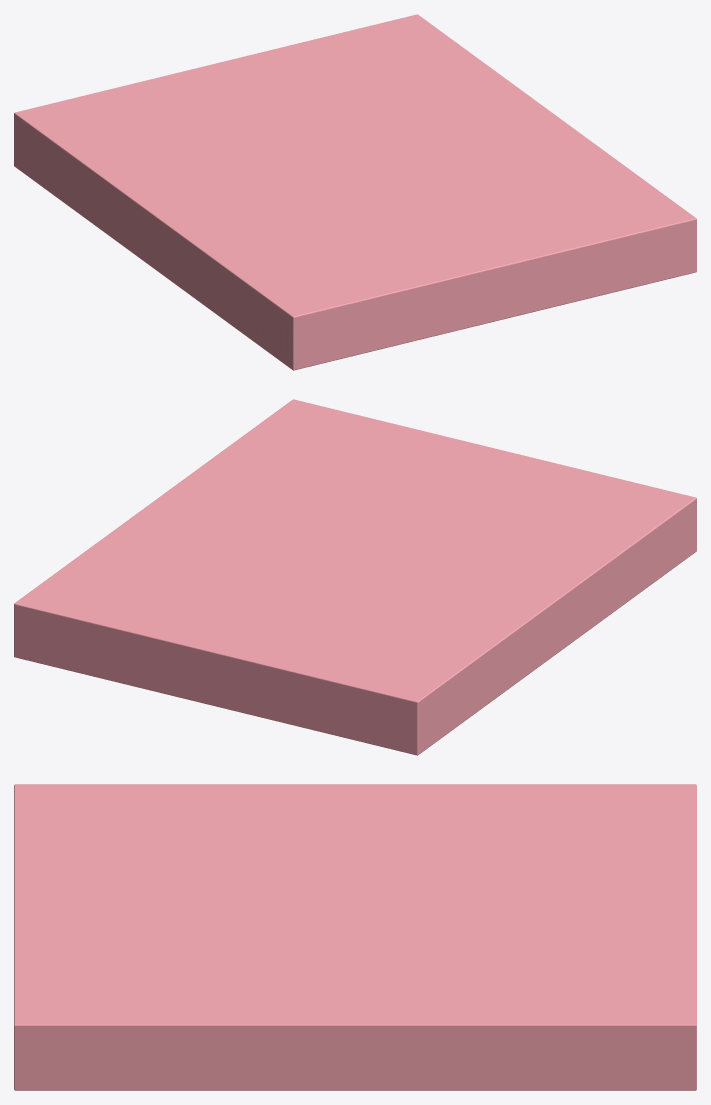
File: animate_ceiling_block.fbx
3 views of the same model, one above another, from view 1: azimuth 30°, elevation 25°; view 2: azimuth 150°, elevation 25°; view 3: azimuth 270°, elevation 25° (orthographic). The views are drawn at different scales.
Visible parts, largest first — view 1: animated_block; view 2: animated_block; view 3: animated_block.
Boxes of the visible parts, bbox=[...] form: animated_block: bbox=[14, 14, 696, 370]; animated_block: bbox=[14, 399, 696, 755]; animated_block: bbox=[14, 784, 696, 1090].
Bounding box in the file's own units: 50.07 × 6.39 × 59.98.
